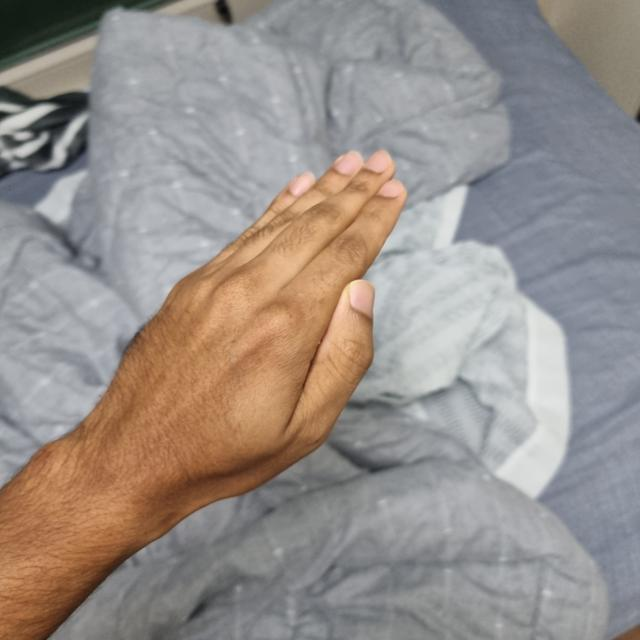Paper: (82, 159, 403, 501)
